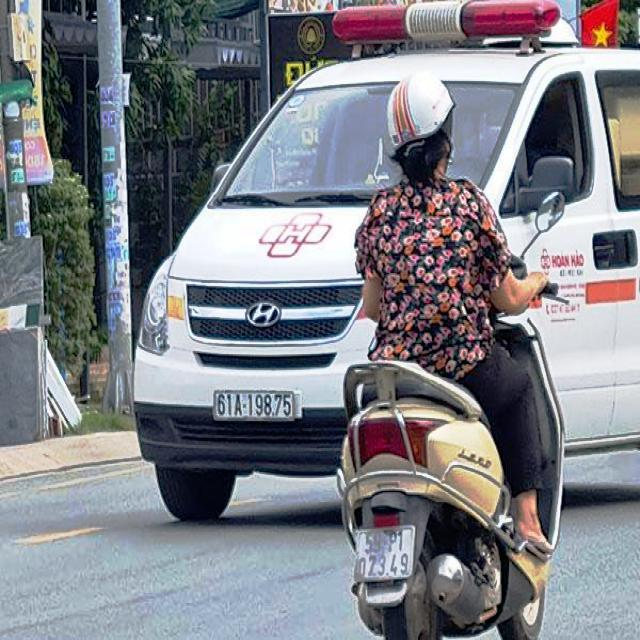license_plate: (356, 525, 416, 581), (215, 391, 295, 420)
